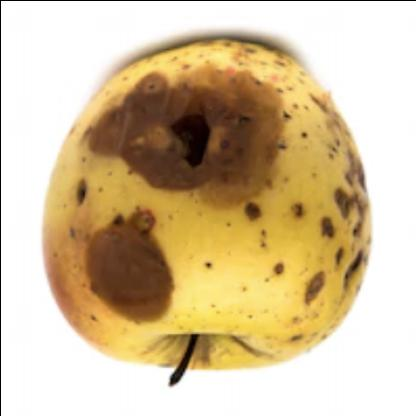Rotten Apple: (40, 41, 366, 369)
